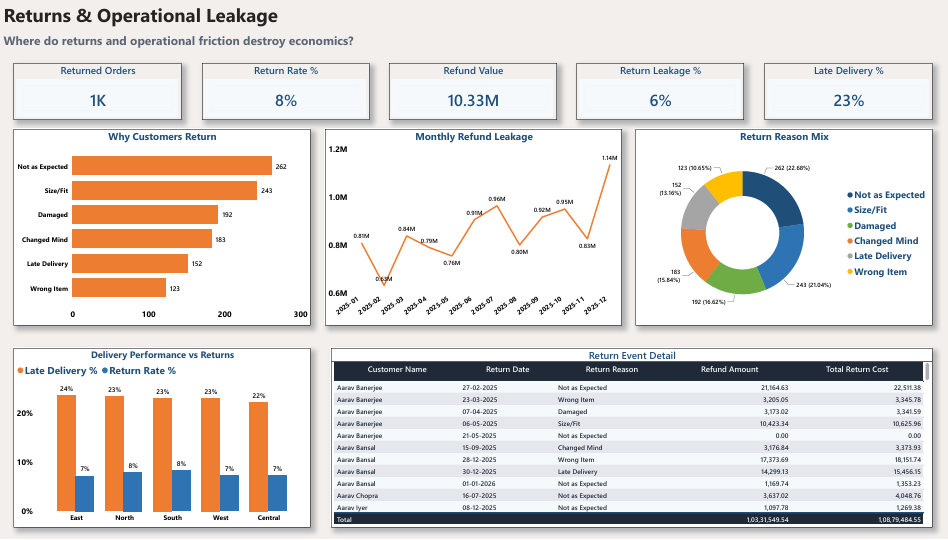

Layout of this report page (visuals, bound fields, positions):
{"tool":"powerbi","page":{"name":"Returns & Operational Leakage","canvas":[1920,1080],"ordinal":2},"visuals":[{"type":"textbox","box":[0,0,570.9,86],"z":0},{"type":"textbox","box":[0,59.5,720.7,103.6],"z":1000},{"type":"cardVisual","title":"Returned Orders","fields":{"Data":["ProfitTrace Measures.Returned Orders"]},"box":[41,126,335.6,114.1],"z":2000},{"type":"cardVisual","title":"Refund Value","fields":{"Data":["ProfitTrace Measures.Refund Value"]},"box":[792.2,126,335.6,114.1],"z":3000},{"type":"cardVisual","title":"Late Delivery %","fields":{"Data":["ProfitTrace Measures.Late Delivery %"]},"box":[1543.3,126,335.6,114.1],"z":4000},{"type":"cardVisual","title":"Return Leakage %","fields":{"Data":["ProfitTrace Measures.Return Leakage %"]},"box":[1166.6,126,335.6,114.1],"z":5000},{"type":"cardVisual","title":"Return Rate %","fields":{"Data":["ProfitTrace Measures.Return Rate %"]},"box":[417.7,126,335.6,114.1],"z":6000},{"type":"clusteredBarChart","title":"Why Customers Return","fields":{"Category":["FactReturns.return_reason"],"Y":["ProfitTrace Measures.Return Events"]},"box":[44.6,268,585,392.7],"z":7000},{"type":"lineChart","title":"Monthly Refund Leakage by Return Month","fields":{"Category":["DimDate.Year Month"],"Y":["ProfitTrace Measures.Return Refund Value"]},"box":[670.5,268,585,392.7],"z":8000},{"type":"clusteredColumnChart","title":"Return Rate by Delivery Status","fields":{"Category":["FactProfitability.delivery_status_clean"],"Y":["ProfitTrace Measures.Return Rate %"]},"box":[43.4,696.1,593.6,358.4],"z":10000},{"type":"tableEx","title":"Return Event Detail","fields":{"Values":["DimCustomer.customer_name","FactReturns.return_date","FactReturns.return_reason","Sum(FactReturns.refund_amount)","Sum(FactReturns.total_return_cost)","FactReturns.return_status"]},"box":[678,696.1,1203.1,358.4],"z":11000},{"type":"clusteredBarChart","title":"Return Rate by Category","fields":{"Category":["DimProduct.category"],"Y":["ProfitTrace Measures.Return Rate %"]},"box":[1296.4,267.3,584.7,392.9],"z":11001}]}

Visuals, with their boxes in screenshot pixels (x1, y1, x2, y2), scaled from the page's 1920x1080 canvas onto the 948x540 screenshot:
textbox: (0,0,282,43)
textbox: (0,30,356,82)
"Returned Orders" cardVisual: (20,63,186,120)
"Refund Value" cardVisual: (391,63,557,120)
"Late Delivery %" cardVisual: (762,63,928,120)
"Return Leakage %" cardVisual: (576,63,742,120)
"Return Rate %" cardVisual: (206,63,372,120)
"Why Customers Return" clusteredBarChart: (22,134,311,330)
"Monthly Refund Leakage by Return Month" lineChart: (331,134,620,330)
"Return Rate by Delivery Status" clusteredColumnChart: (21,348,315,527)
"Return Event Detail" tableEx: (335,348,929,527)
"Return Rate by Category" clusteredBarChart: (640,134,929,330)
